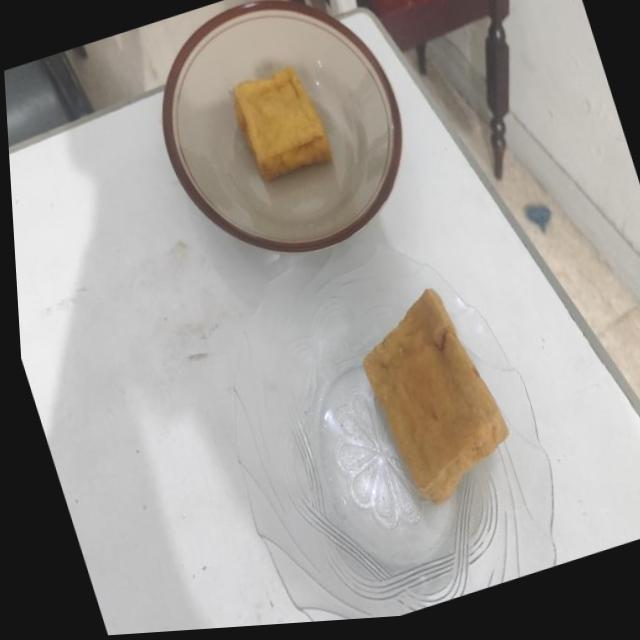tahu_goreng: (363, 288, 508, 502), (234, 66, 331, 179)
